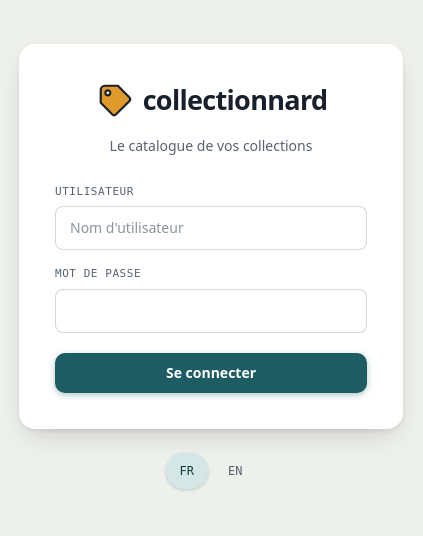
LoginView › affiche une erreur quand les identifiants sont refusés
Type "ghost" into the field with placeholder "Nom d'utilisateur" at coordinates (211, 228), box left=70, top=207, right=352, bottom=249
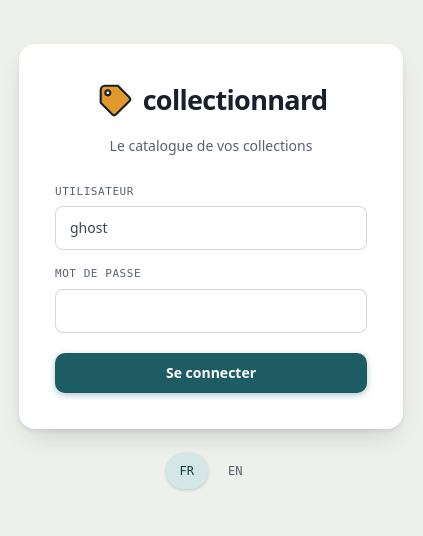
Type "x" into the password field labelled "Mot de passe" at coordinates (211, 310), box left=70, top=290, right=352, bottom=332
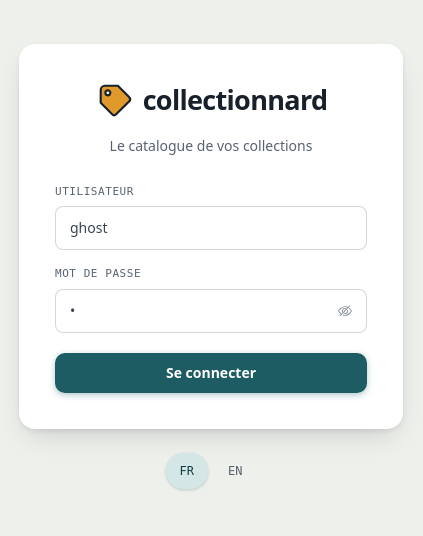
Submit the form, box left=55, top=184, right=367, bottom=392
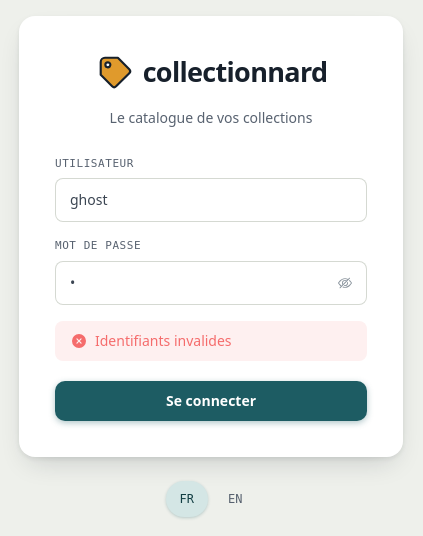
Result: the text "Identifiants invalides" is shown at left=95, top=328, right=232, bottom=352
